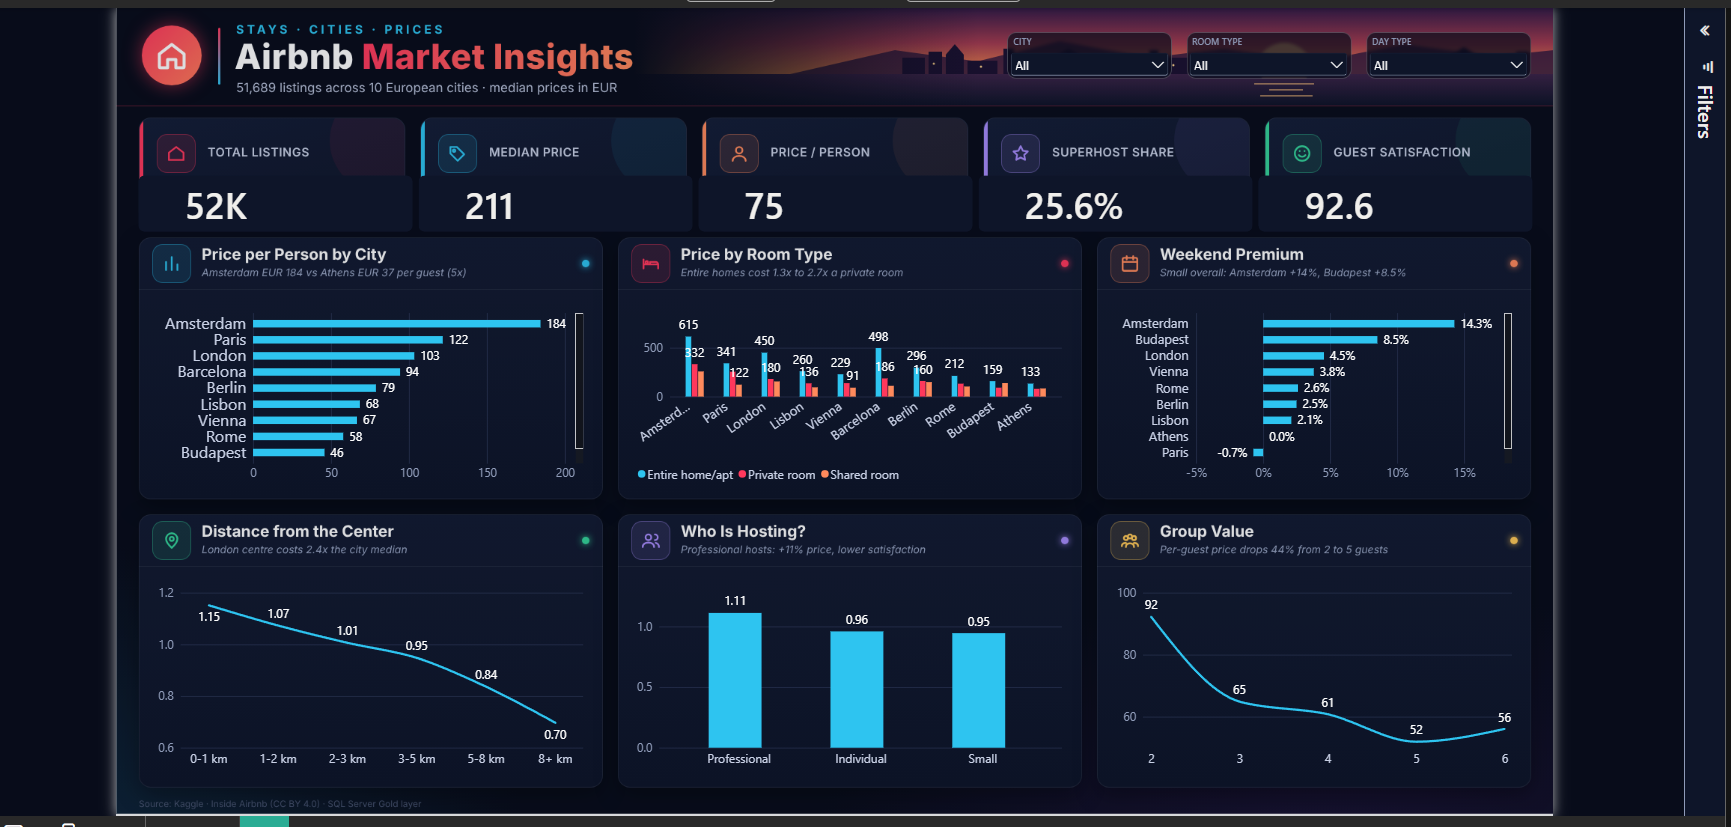

This screenshot's page, from the dashboard's own definition file:
{"tool":"powerbi","page":{"name":"Page 1","canvas":[1920,1080],"ordinal":0},"visuals":[{"type":"cardVisual","fields":{"Data":["Listings.Total Listings","Listings.Median Price","Listings.Median Price per Person","Listings.Superhost Share","Listings.Avg Guest Satisfaction"]},"box":[30.1,223.7,1863.5,75.1],"z":0},{"type":"clusteredBarChart","fields":{"Category":["City.city_name"],"Y":["Listings.Median Price per Person"]},"box":[40,385,600,268],"z":1000},{"type":"clusteredColumnChart","fields":{"Category":["City.city_name"],"Series":["Room Type.room_type_name"],"Y":["Listings.Median Price"]},"box":[680,385,600,268],"z":2000},{"type":"clusteredBarChart","fields":{"Category":["City.city_name"],"Y":["Listings.Weekend Premium %"]},"box":[1320,385,560,268],"z":3000},{"type":"slicer","fields":{"Values":["City.city_name"]},"box":[1190,36,220,62],"z":4000},{"type":"lineChart","fields":{"Category":["Listings.Distance Band"],"Y":["Listings.Median Price Index"]},"box":[40,755,600,280],"z":5000},{"type":"clusteredColumnChart","fields":{"Category":["Host Type.host_type_name"],"Y":["Listings.Median Price Index"]},"box":[680,755,600,280],"z":6000},{"type":"lineChart","fields":{"Category":["Listings.person_capacity"],"Y":["Listings.Median Price per Person"]},"box":[1320,755,560,280],"z":7000},{"type":"slicer","fields":{"Values":["Room Type.room_type_name"]},"box":[1430,36,220,62],"z":8000},{"type":"slicer","fields":{"Values":["Day Type.day_type_name"]},"box":[1670,36,220,62],"z":9000}]}

Visuals, with their boxes on the page's 1920x1080 design canvas (x1, y1, x2, y2). These are canvas units, not pixel positions in the 1731x827 screenshot, which may show the page scaled, cropped or inside an application window:
cardVisual - Listings.Total Listings x Listings.Median Price: (30,224,1894,299)
clusteredBarChart - City.city_name x Listings.Median Price per Person: (40,385,640,653)
clusteredColumnChart - City.city_name x Room Type.room_type_name: (680,385,1280,653)
clusteredBarChart - City.city_name x Listings.Weekend Premium %: (1320,385,1880,653)
slicer - City.city_name: (1190,36,1410,98)
lineChart - Listings.Distance Band x Listings.Median Price Index: (40,755,640,1035)
clusteredColumnChart - Host Type.host_type_name x Listings.Median Price Index: (680,755,1280,1035)
lineChart - Listings.person_capacity x Listings.Median Price per Person: (1320,755,1880,1035)
slicer - Room Type.room_type_name: (1430,36,1650,98)
slicer - Day Type.day_type_name: (1670,36,1890,98)
